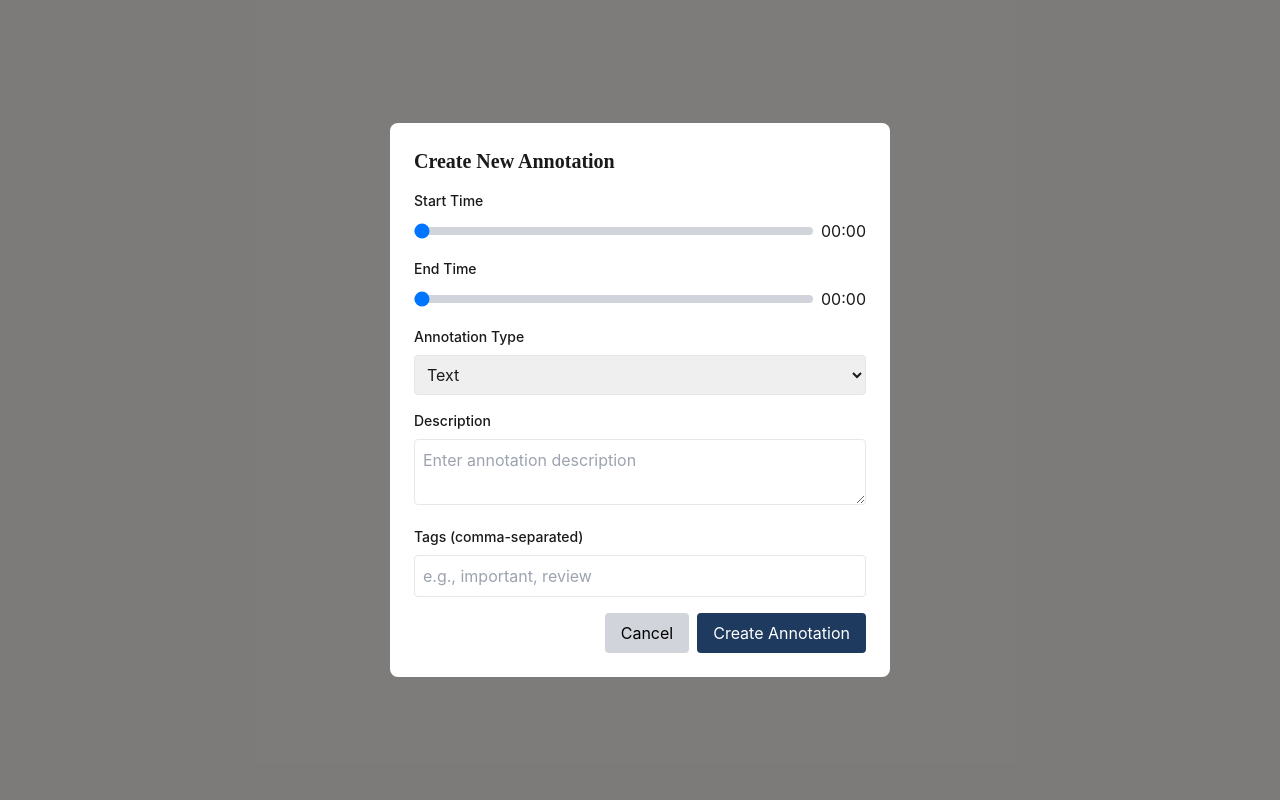
it: UploadAnnotationModal › shows error when submitting with zero time range
This screenshot has width=1280, height=800.
Click the button "Create Annotation": (782, 633) [697, 613, 866, 653]
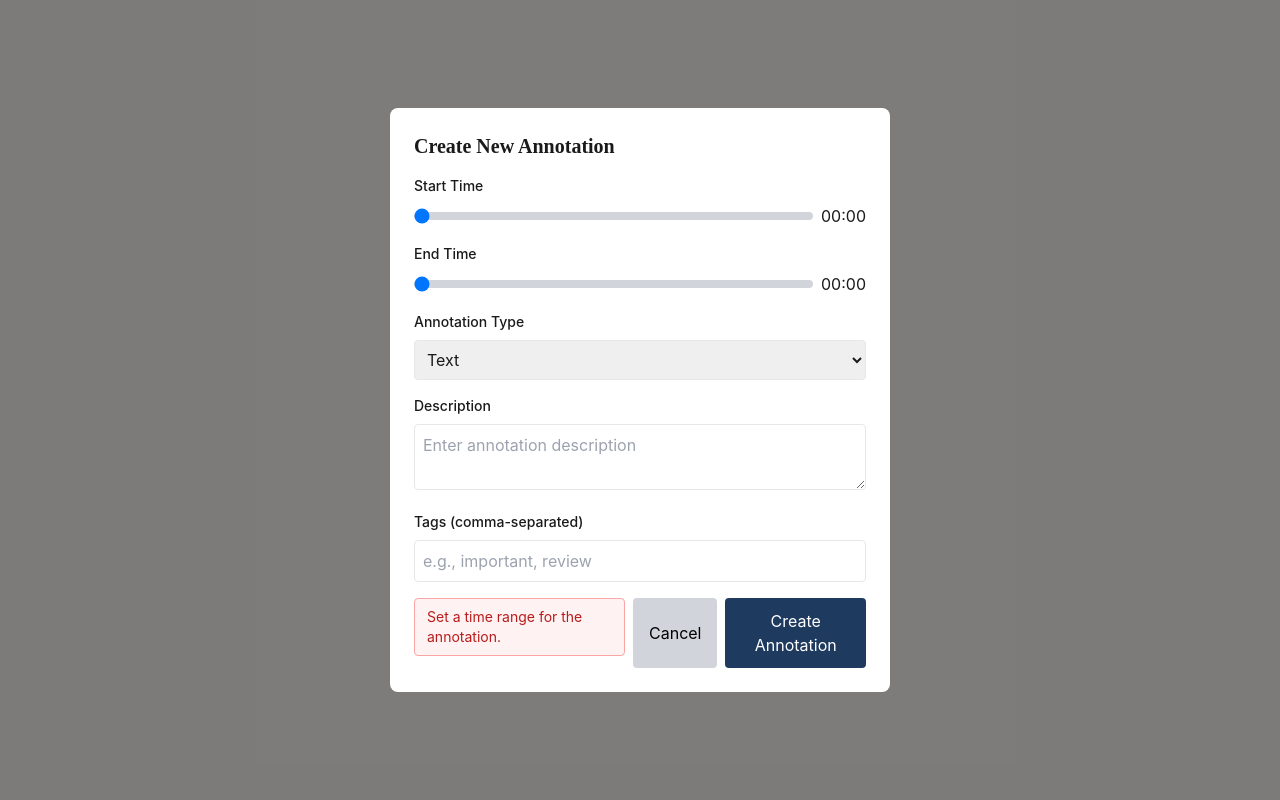
Now the text "Set a time range for the annotation." is shown, box [414, 598, 625, 656]
